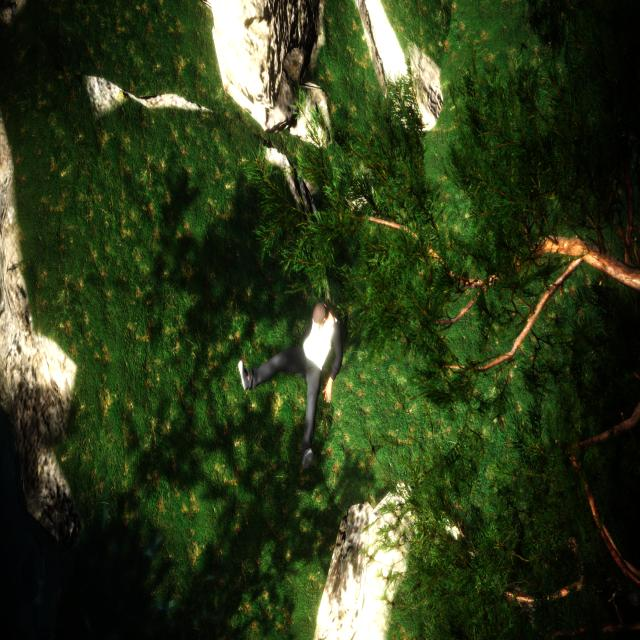Human: (234, 288, 346, 490)
